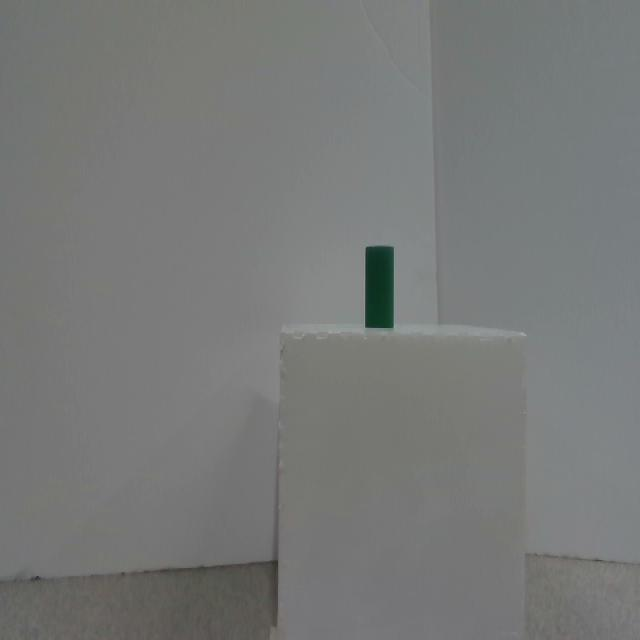green_cylinder: (366, 246, 394, 328)
